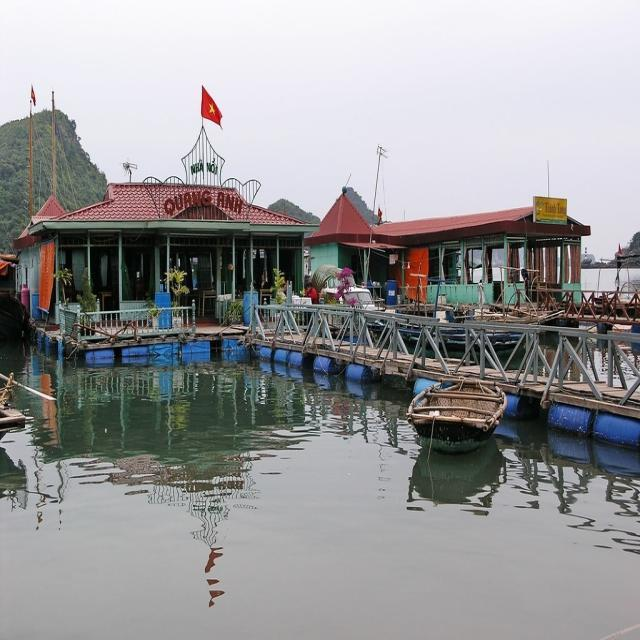boat: (401, 363, 509, 456)
